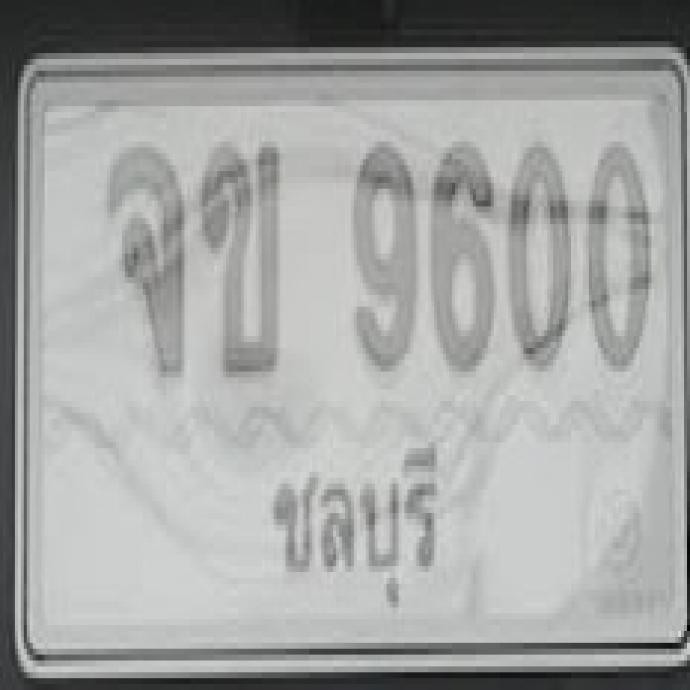0: (506, 141, 575, 367), (584, 135, 650, 364)
6: (430, 140, 492, 368)
9: (350, 140, 415, 368)
A02: (199, 139, 281, 374)
A08: (106, 142, 184, 377)
CBI: (261, 425, 447, 613)
